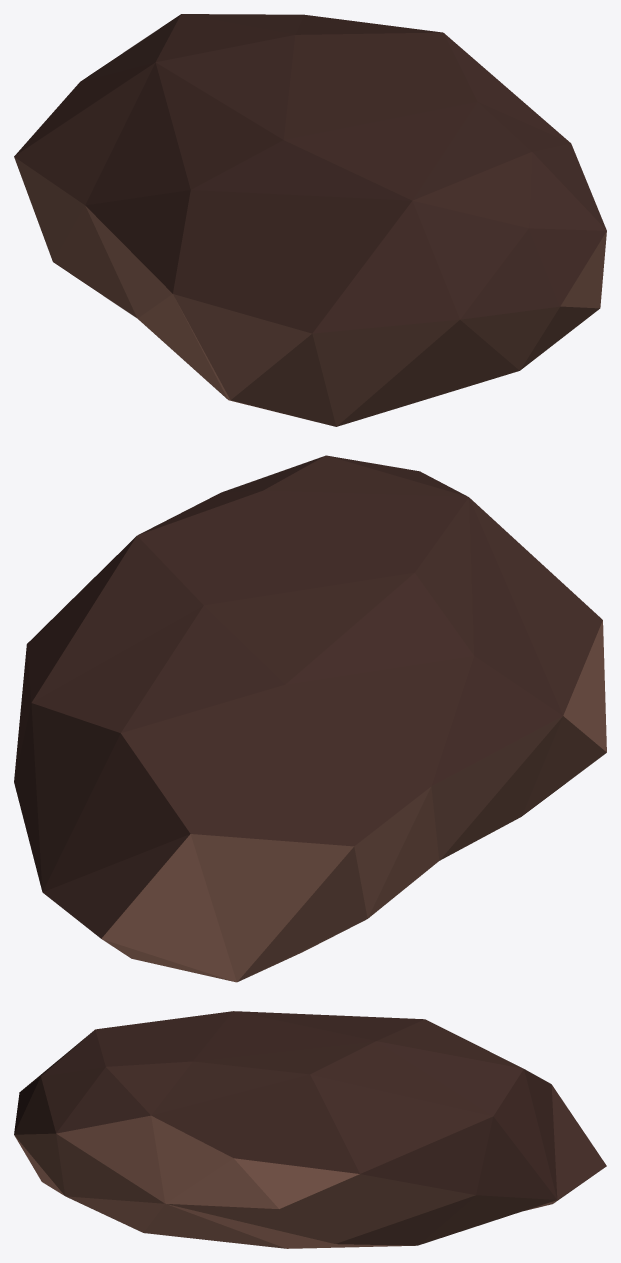
File: Brown_stone_012.fbx
3 renders of one model, top to bottom at view 1: azimuth 30°, elevation 25°; view 2: azimuth 150°, elevation 25°; view 3: azimuth 270°, elevation 25°, orthographic. The views are drawn at different scales.
Visible parts, largest first — view 1: Brown_stone_012; view 2: Brown_stone_012; view 3: Brown_stone_012.
Part boxes in pixels (x1,y1,x2,y2): Brown_stone_012: (14,14,606,426); Brown_stone_012: (14,455,606,982); Brown_stone_012: (14,1011,606,1248).
Bounding box in the file's own units: 490 × 778 × 303.
